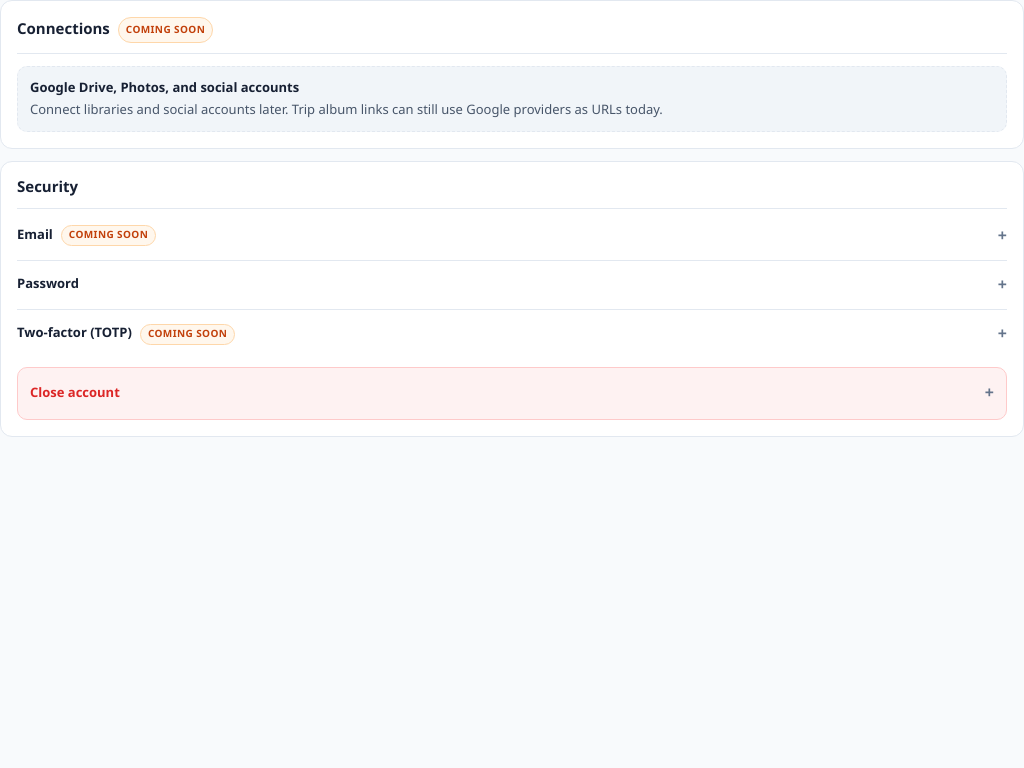
AccountSettingsComingSoon Security › Password accordion is live inline form (not Coming soon) with Current/New/Confirm fields and Update password
This screenshot has width=1024, height=768.
Check: the text "Password" is shown, box 17,260 -> 1007,308
Step 1. Click the heading "Password" → (48, 284), box 17,274 -> 79,294
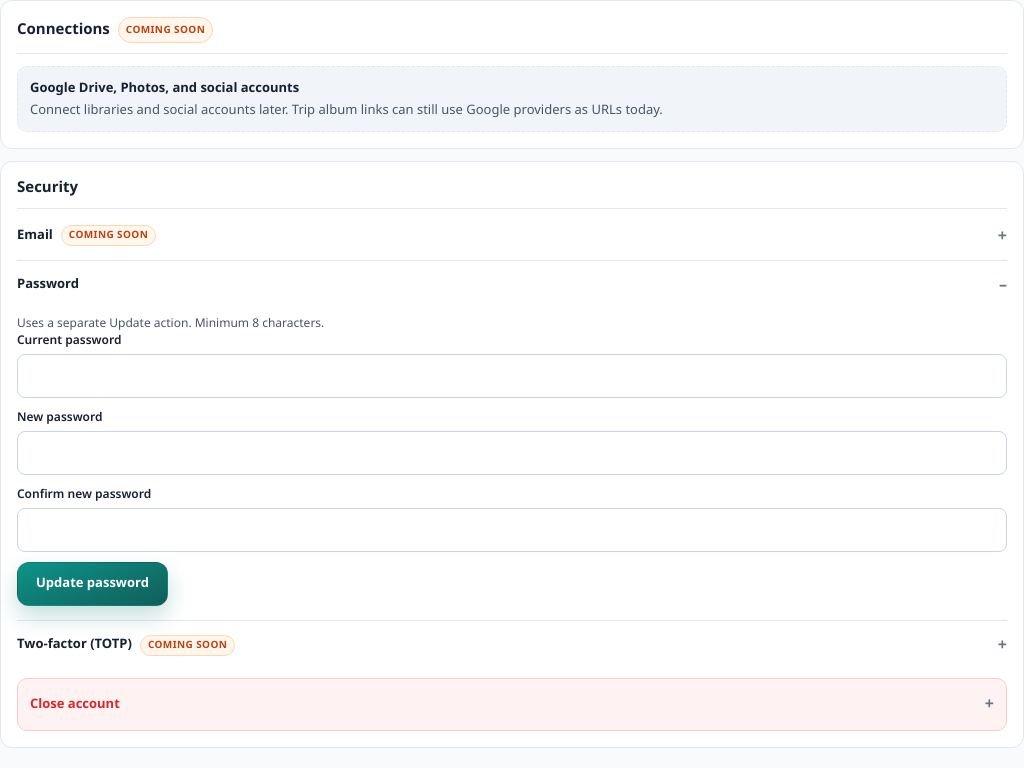
Check: the text "Password" shows "Current password", box 17,330 -> 122,348
Check: the text "Password" shows "New password", box 17,408 -> 102,426
Check: the text "Password" shows "Confirm new password", box 17,484 -> 151,502
